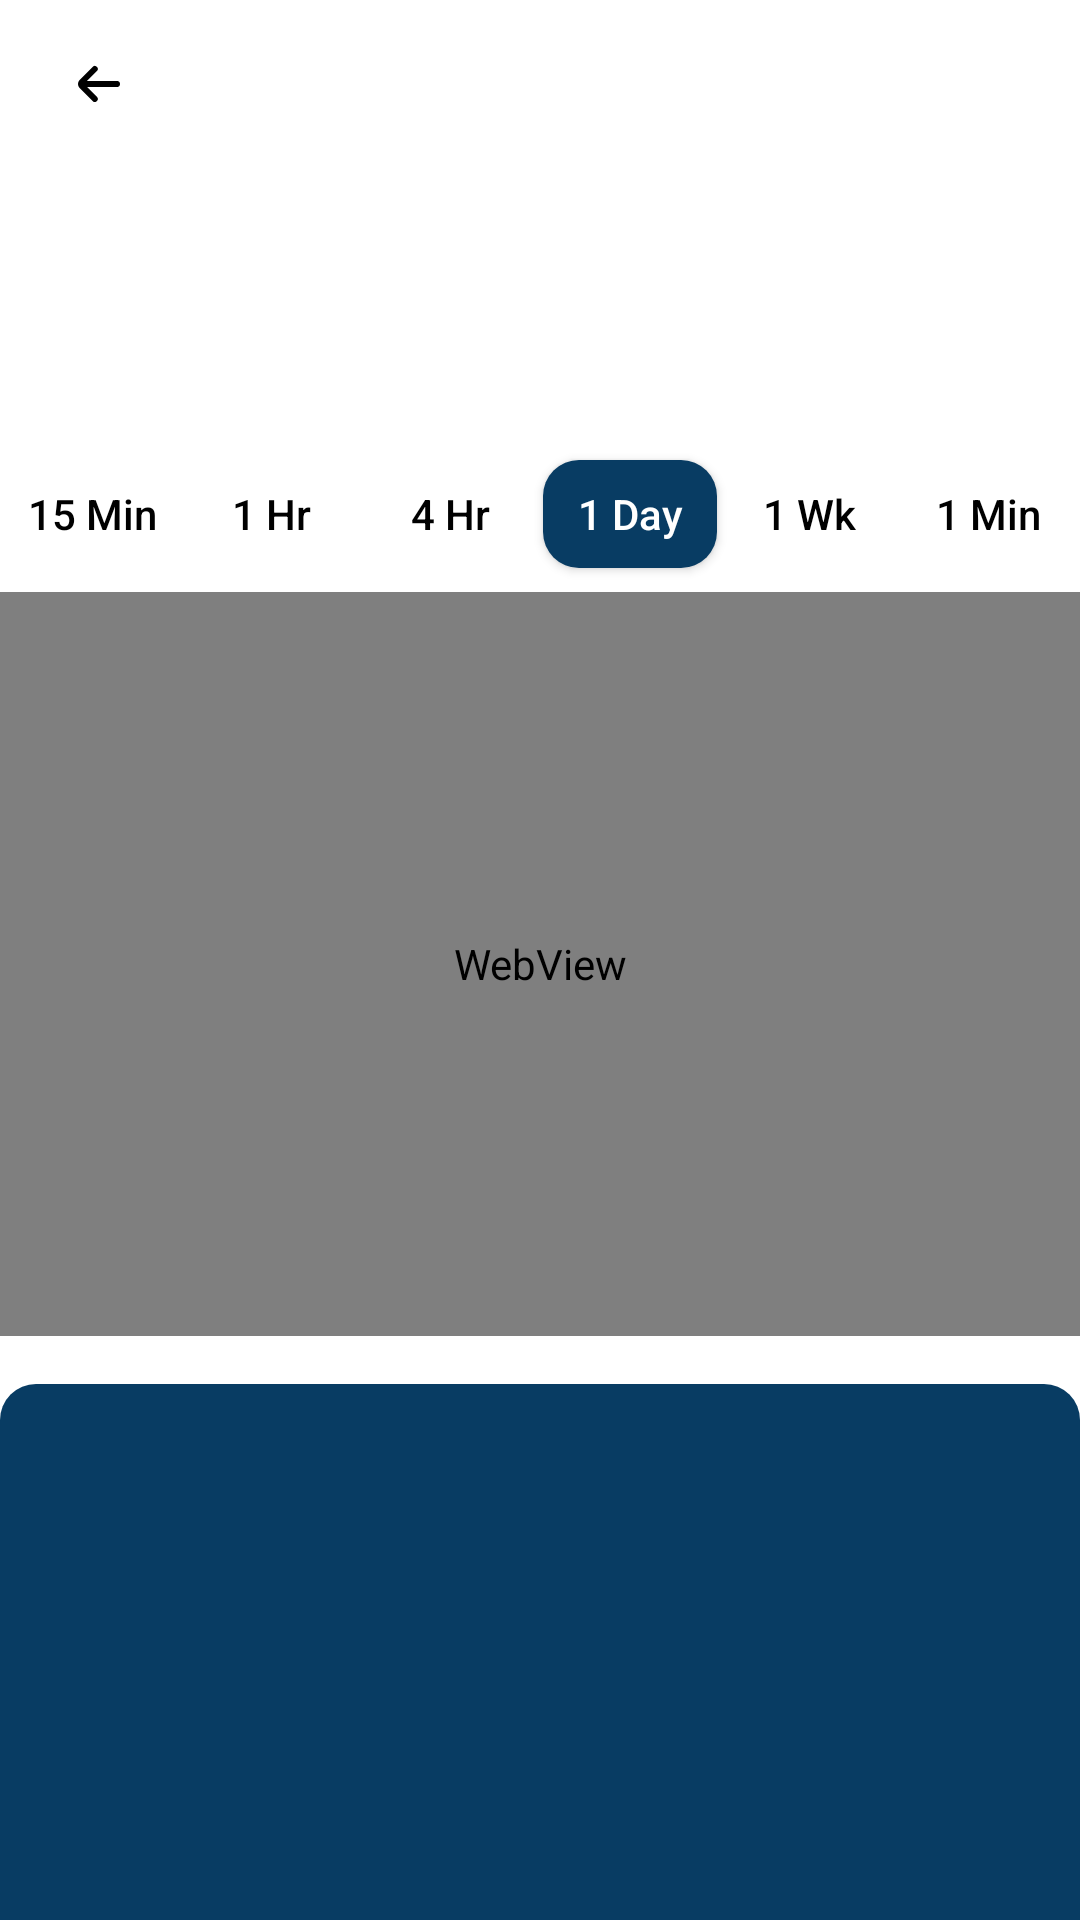

Where to tap for icons on this 1080 x 1920 app screen, as (x=x, y=y):
back stack: (x=99, y=83)
